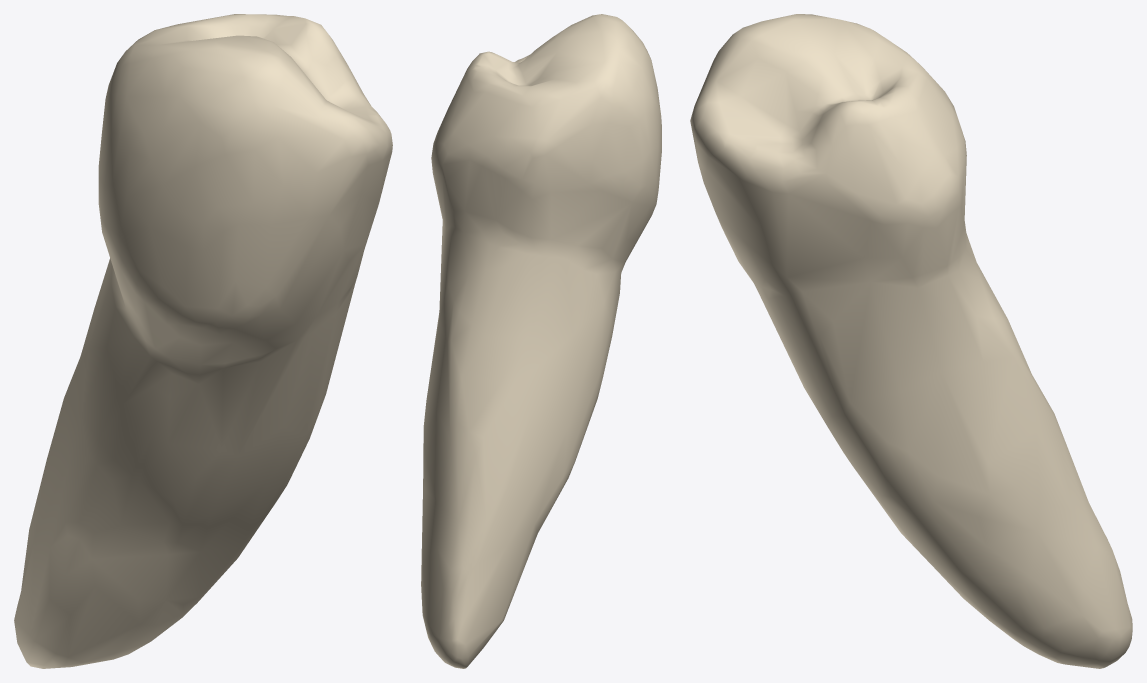
File: lower-first-premolar-r.glb
The picture shows the model from 3 angles, left to right: view 1: azimuth 30°, elevation 25°; view 2: azimuth 150°, elevation 25°; view 3: azimuth 270°, elevation 25°; orthographic projection. The views are drawn at different scales.
Parts seen in each view (by area): view 1: Lower first premolar.r; view 2: Lower first premolar.r; view 3: Lower first premolar.r.
Part boxes in pixels (x1,y1,x2,y2): Lower first premolar.r: [14, 14, 392, 668]; Lower first premolar.r: [421, 14, 661, 668]; Lower first premolar.r: [690, 14, 1132, 668].
Size of the model in its own units: 0.00778 by 0.022 by 0.0138.
